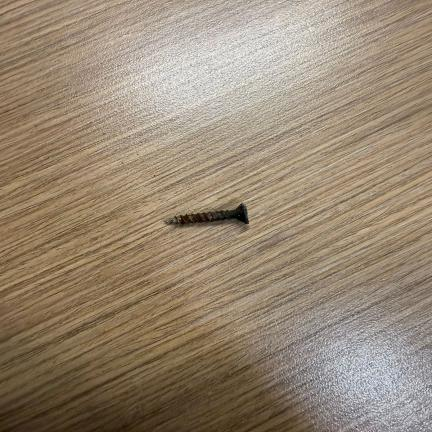karat: (165, 203, 249, 225)
